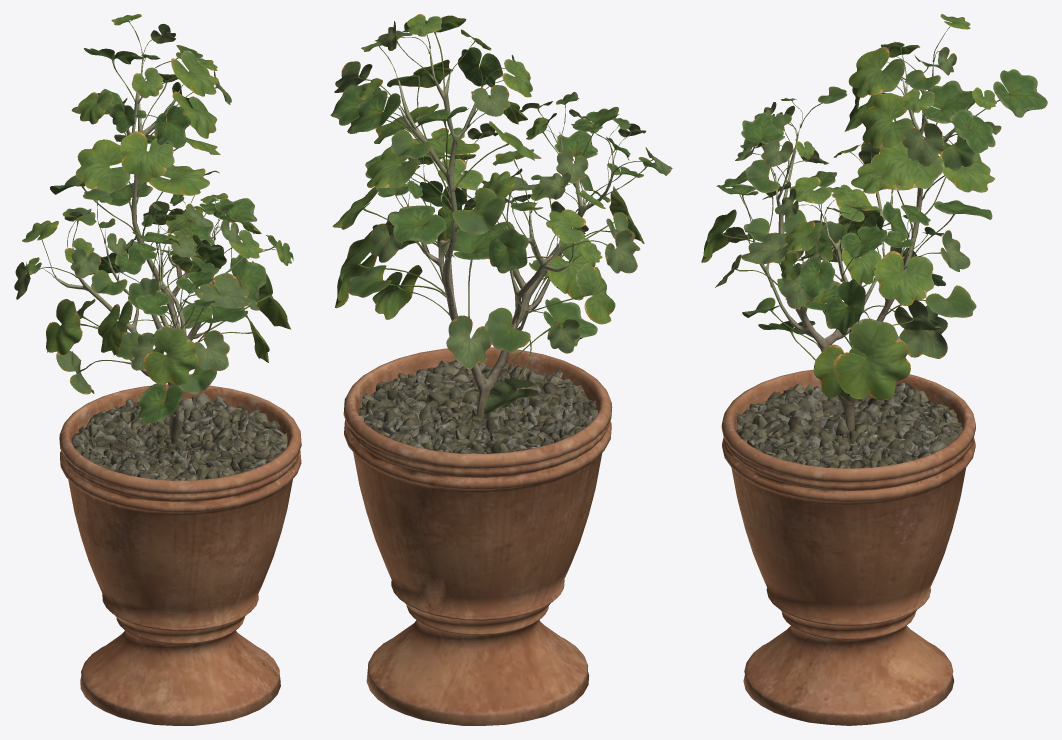
File: plant.glb
3 views of the same model, side by side, from view 1: azimuth 30°, elevation 25°; view 2: azimuth 150°, elevation 25°; view 3: azimuth 270°, elevation 25° (orthographic). The views are drawn at different scales.
Visible parts, largest first — view 1: potted_plant_01_pot.010, potted_plant_01_leaves.010, potted_plant_01_pebbles.010, potted_plant_01_stem.010; view 2: potted_plant_01_pot.010, potted_plant_01_leaves.010, potted_plant_01_pebbles.010, potted_plant_01_stem.010; view 3: potted_plant_01_pot.010, potted_plant_01_leaves.010, potted_plant_01_pebbles.010, potted_plant_01_stem.010.
Boxes of the visible parts, <box> form: potted_plant_01_pot.010: <box>59,384,301,725</box>; potted_plant_01_leaves.010: <box>14,14,293,424</box>; potted_plant_01_pebbles.010: <box>71,392,287,480</box>; potted_plant_01_stem.010: <box>54,54,244,443</box>; potted_plant_01_pot.010: <box>343,347,612,725</box>; potted_plant_01_leaves.010: <box>330,14,672,414</box>; potted_plant_01_pebbles.010: <box>358,360,597,453</box>; potted_plant_01_stem.010: <box>398,49,613,420</box>; potted_plant_01_pot.010: <box>721,369,975,725</box>; potted_plant_01_leaves.010: <box>701,14,1047,401</box>; potted_plant_01_pebbles.010: <box>736,382,962,468</box>; potted_plant_01_stem.010: <box>752,55,967,431</box>.
Bounding box in the file's own units: 0.9398 × 2.14 × 1.01.
Materials: 2 (2 with a texture image).
